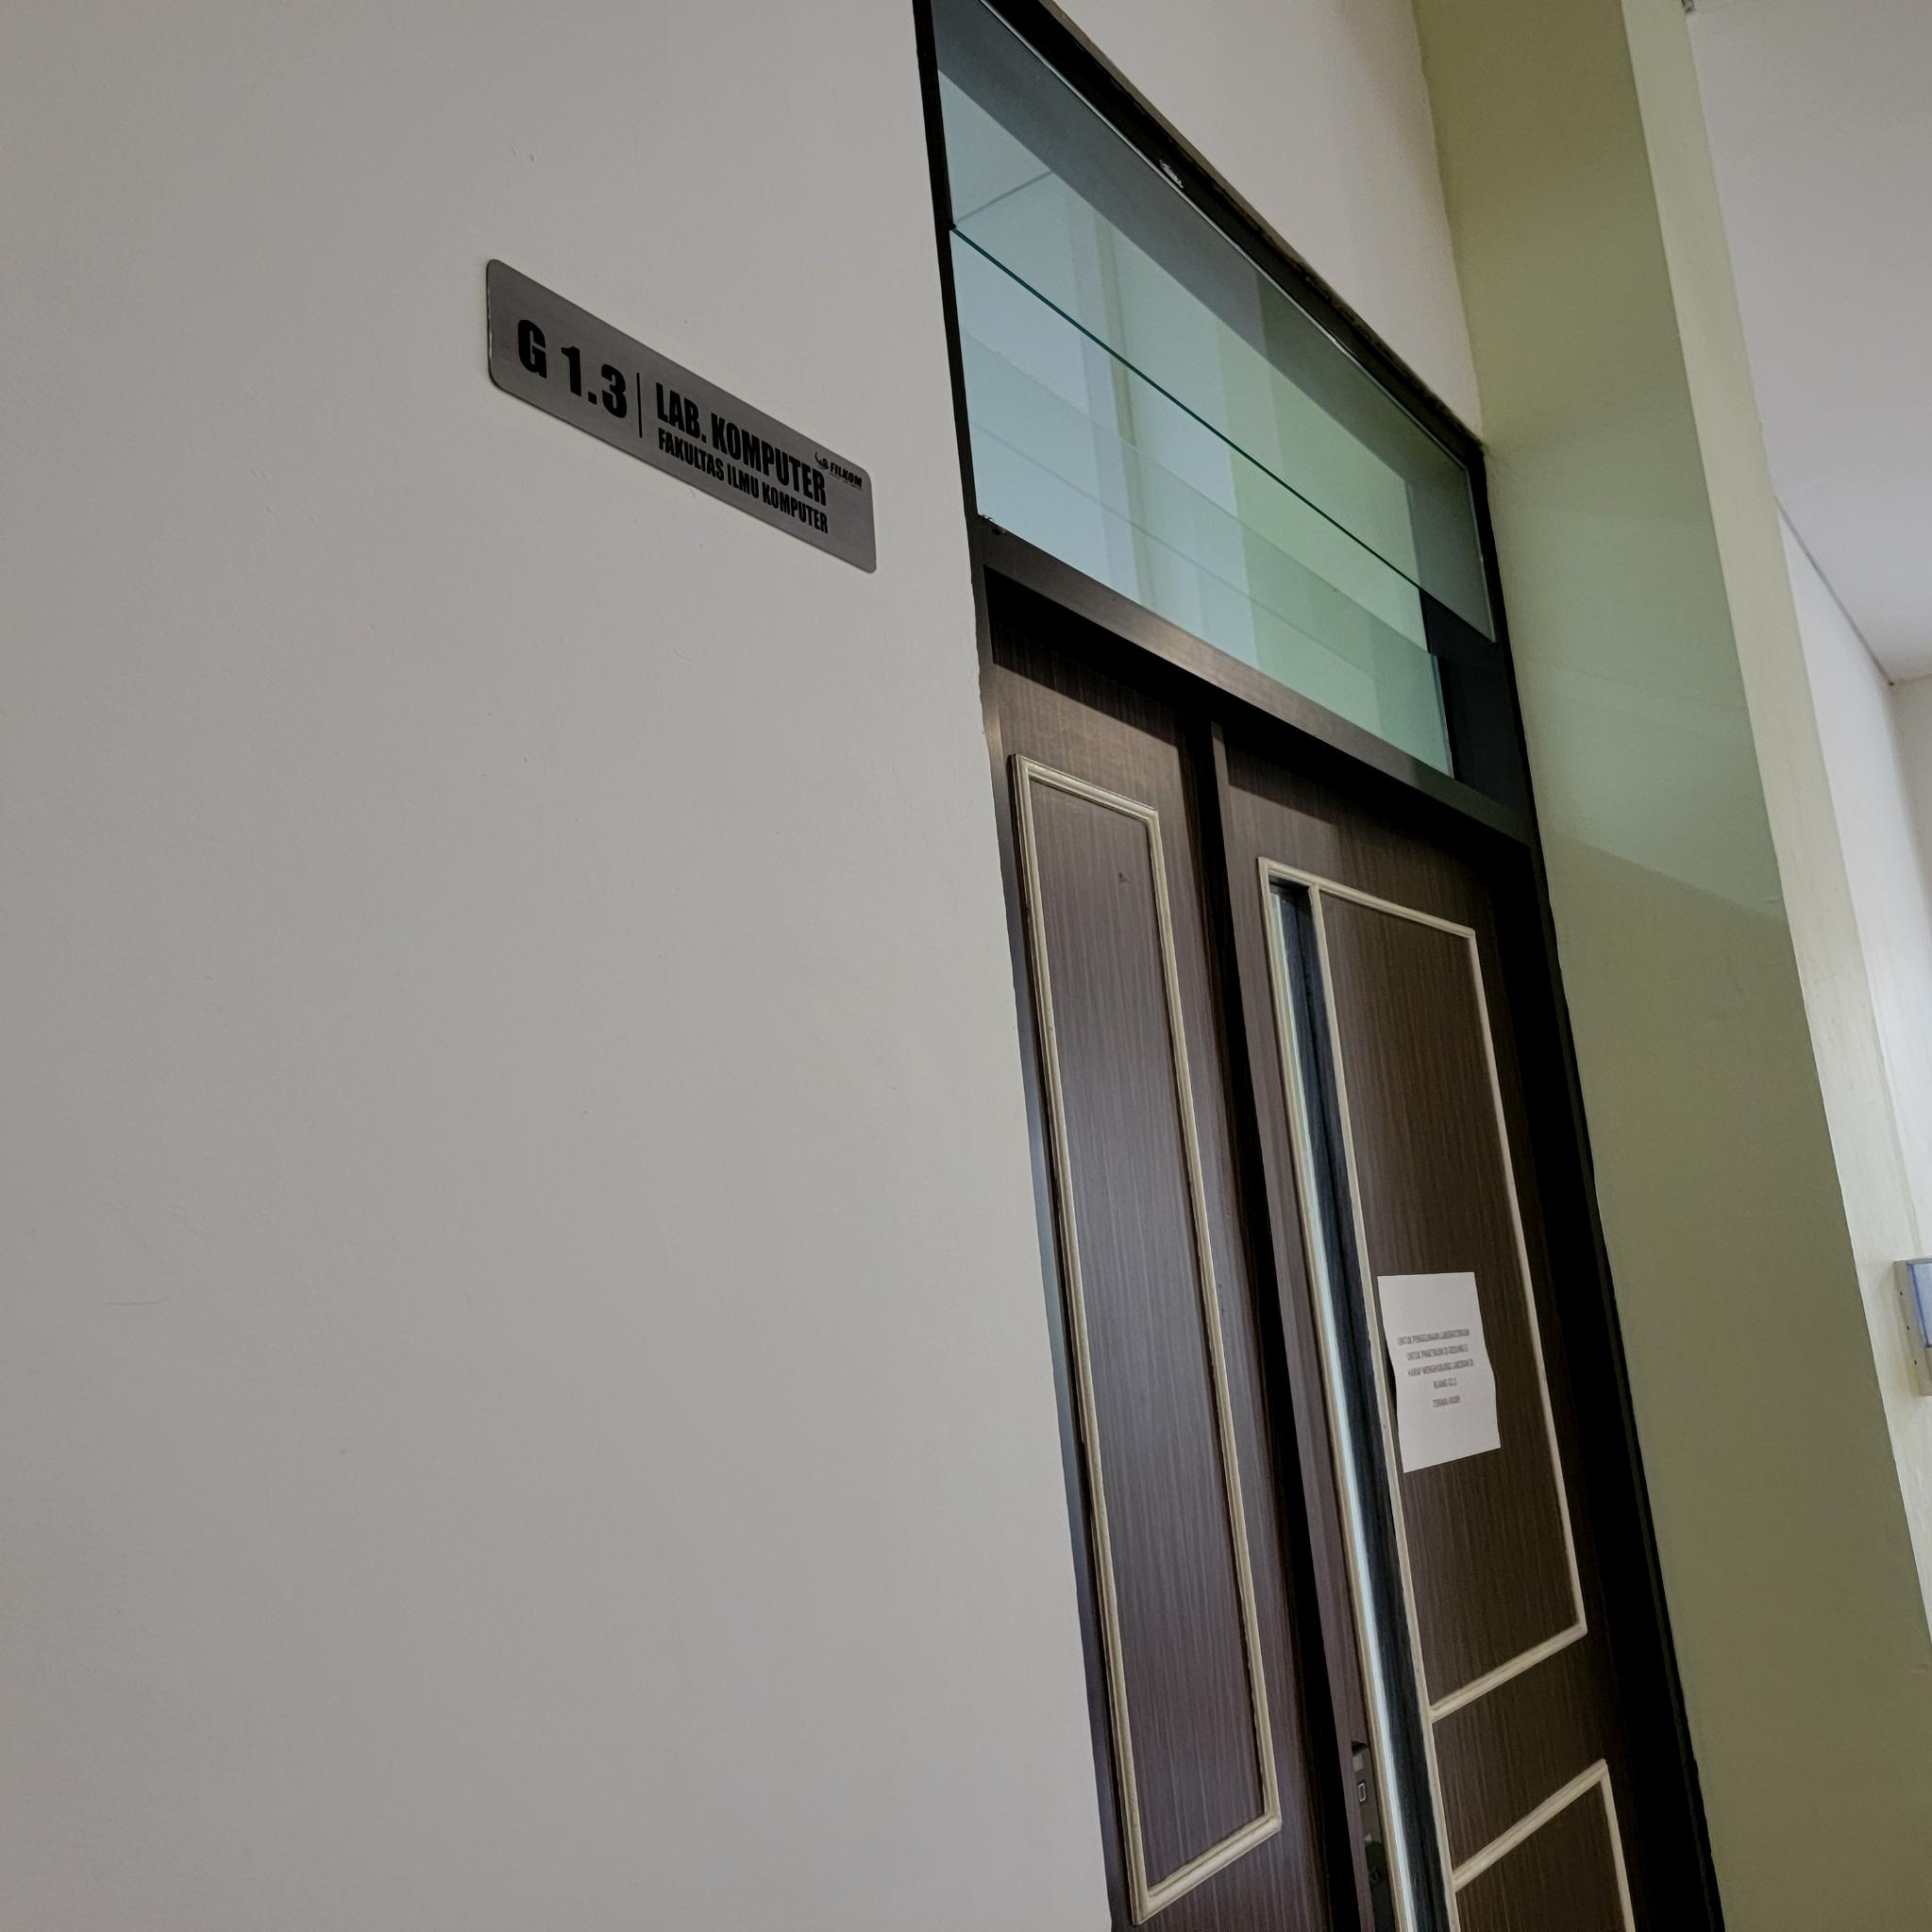plate: (485, 253, 876, 577)
